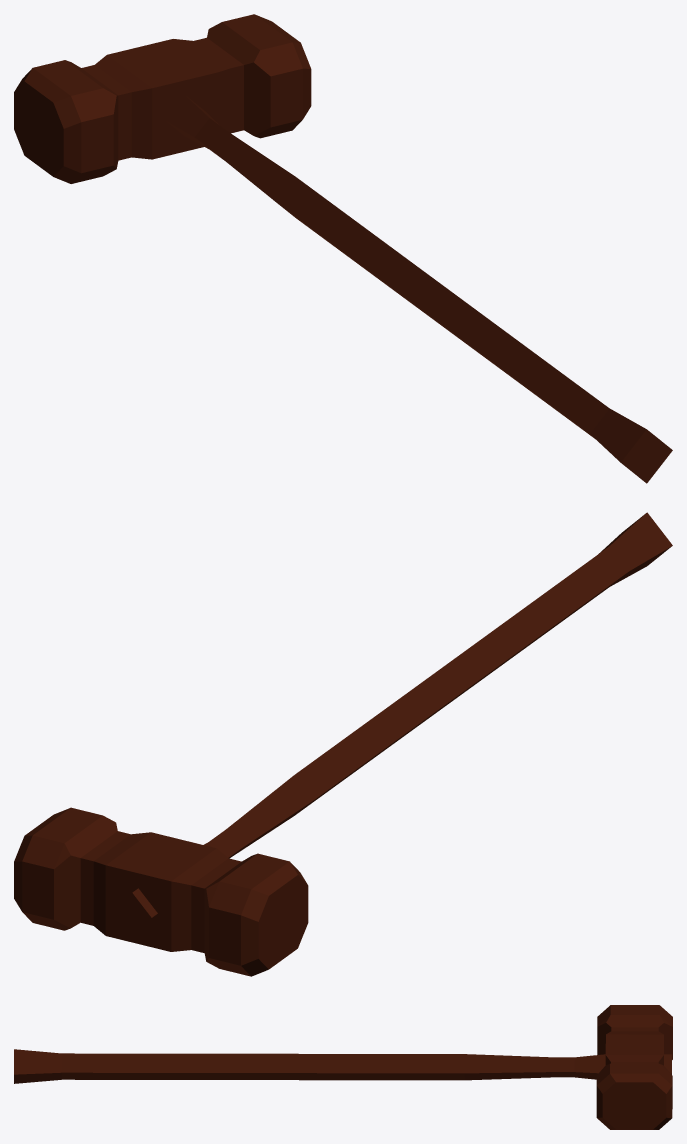
Rendered from Double_Hammer.glb.
3 views of the same model, one above another, from view 1: azimuth 30°, elevation 25°; view 2: azimuth 150°, elevation 25°; view 3: azimuth 270°, elevation 25° (orthographic). The views are drawn at different scales.
Visible parts, largest first — view 1: Double_Hammer; view 2: Double_Hammer; view 3: Double_Hammer.
Boxes of the visible parts, left/top/right/bottom form: Double_Hammer: left=14, top=14, right=672, bottom=483; Double_Hammer: left=14, top=512, right=672, bottom=976; Double_Hammer: left=14, top=1005, right=672, bottom=1129.
Size of the model in its own units: 40.37 by 13.75 by 146.
